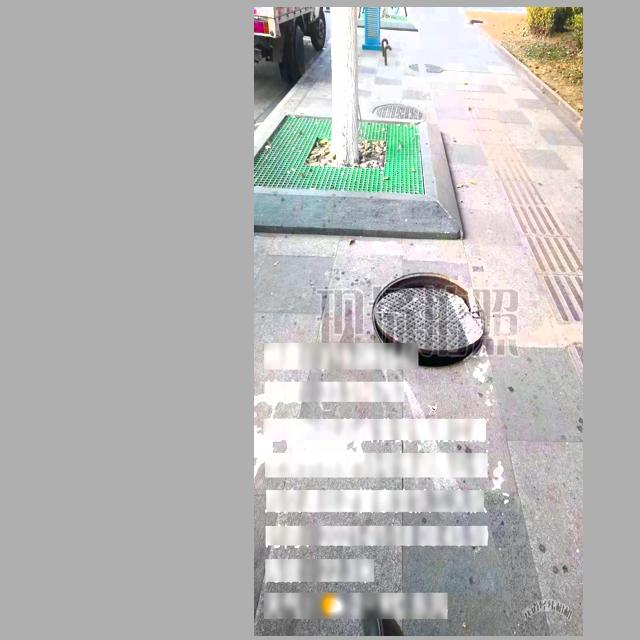uncovered: (371, 271, 485, 368)
